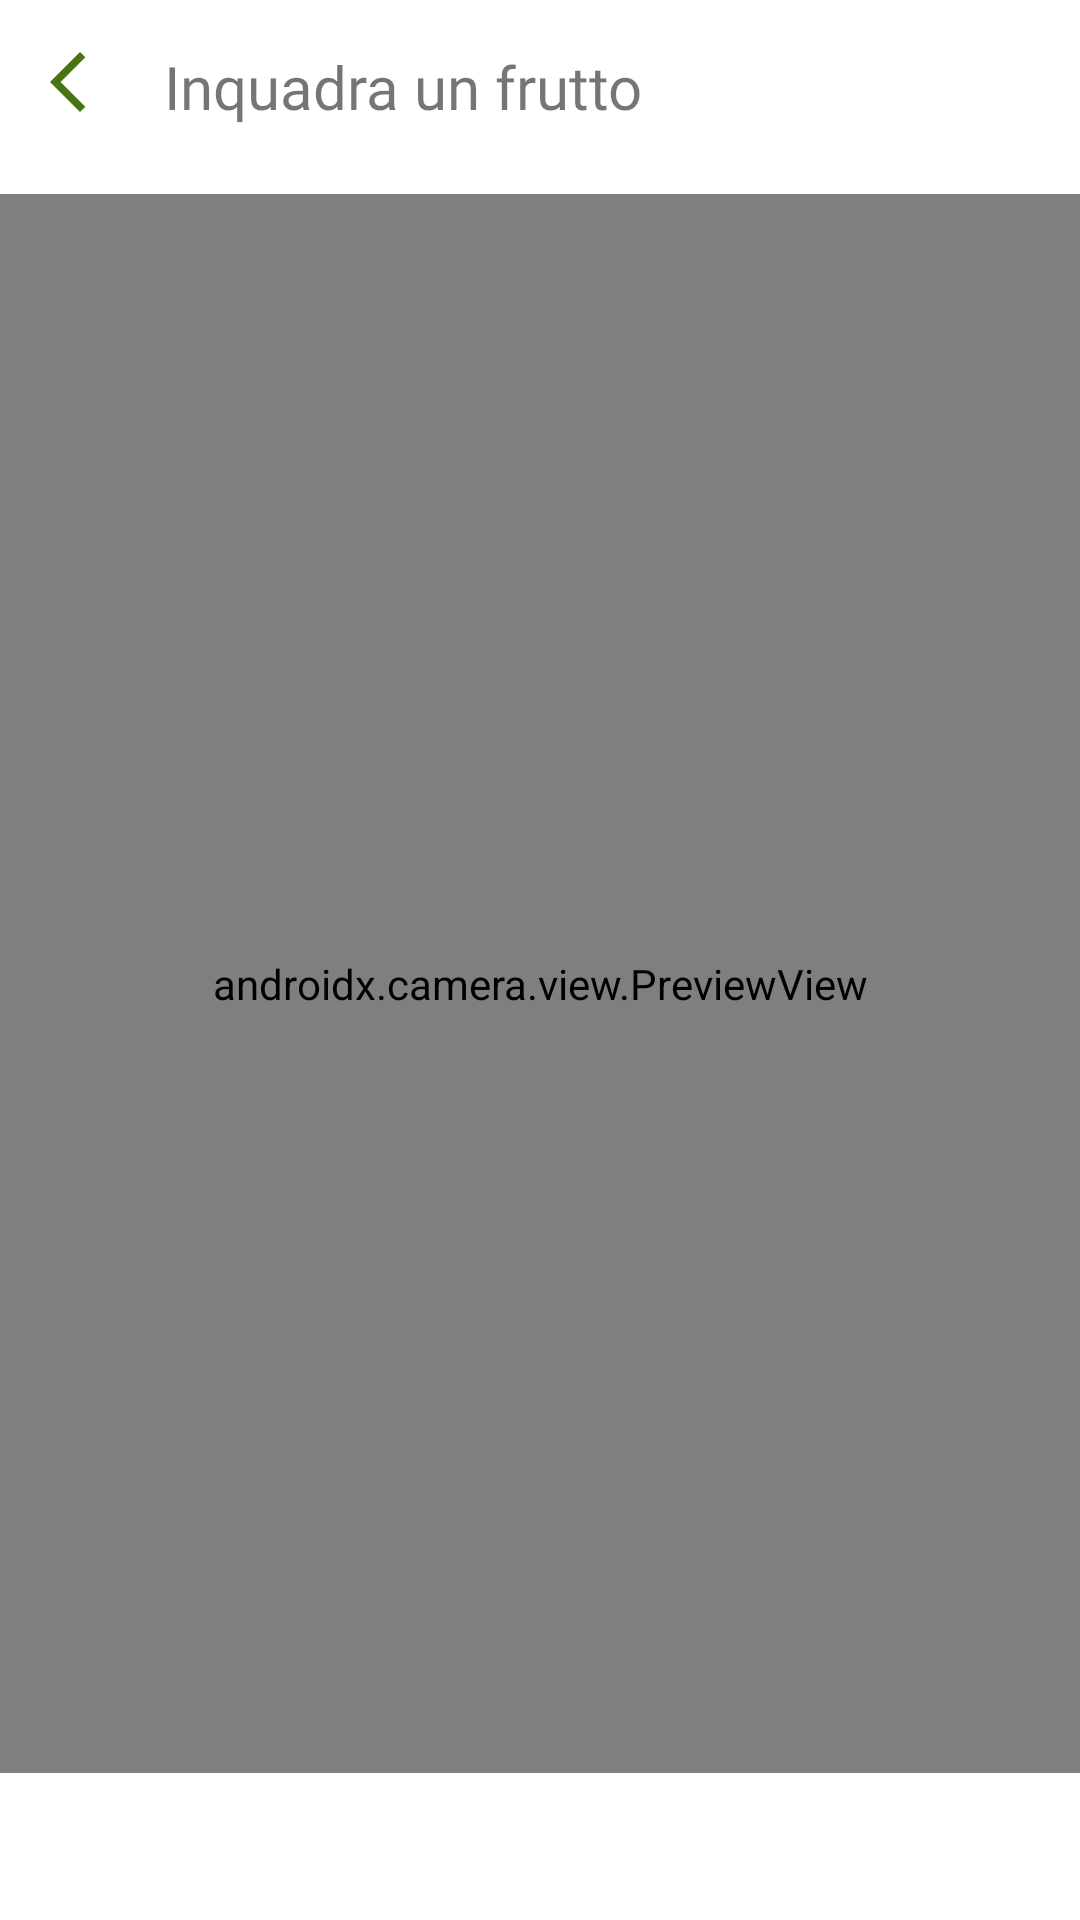

Named icons in this screenshot (1080 x 1920) and their bounding boxes, region(x1, y1, x2, y2):
arrow back: region(50, 52, 85, 112)
